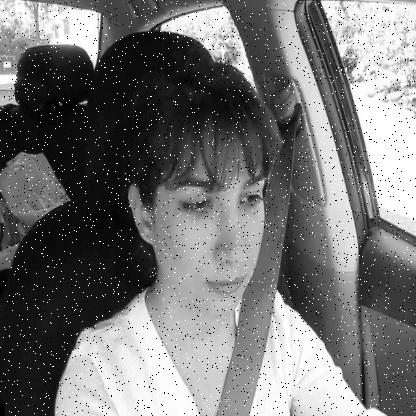seatbelt: (92, 35, 286, 416)
